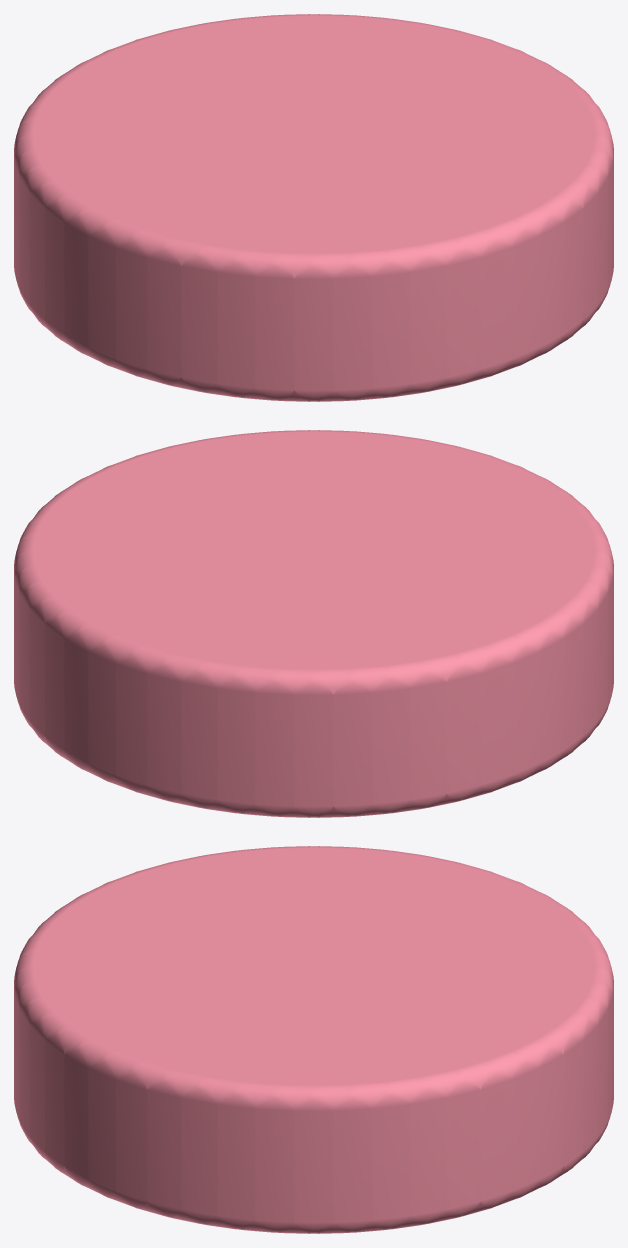
The model's file is cushion.glb.
The picture shows the model from 3 angles, top to bottom: view 1: azimuth 30°, elevation 25°; view 2: azimuth 150°, elevation 25°; view 3: azimuth 270°, elevation 25°; orthographic projection.
Visible parts, largest first — view 1: Cushion; view 2: Cushion; view 3: Cushion.
Boxes of the visible parts, x1,y1,x2,y2 form: Cushion: [14, 14, 613, 401]; Cushion: [14, 430, 613, 817]; Cushion: [14, 846, 613, 1233].
Bounding box in the file's own units: 1.3 × 0.35 × 1.3.
